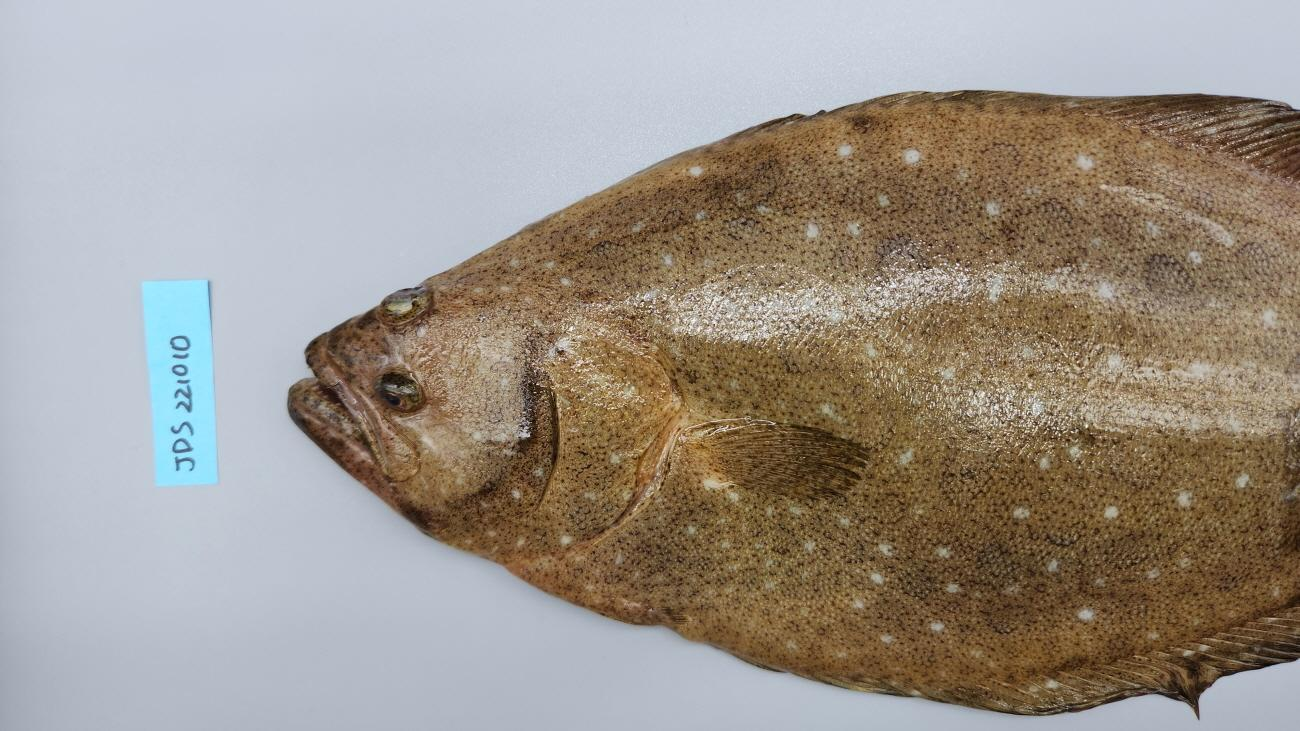VIFAH: (1089, 615, 1277, 722)
